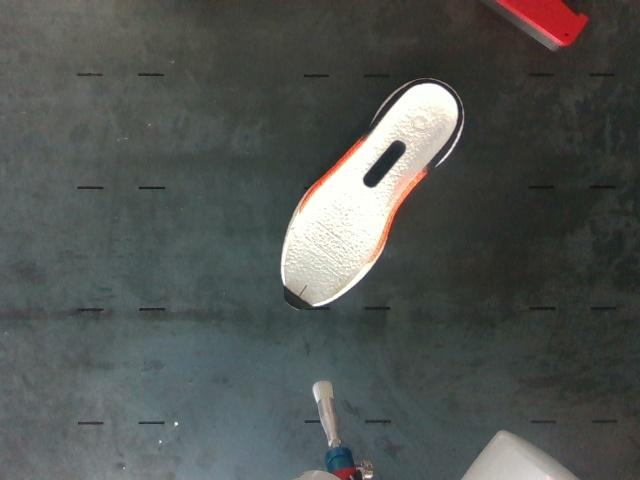shoes: (284, 83, 459, 308)
